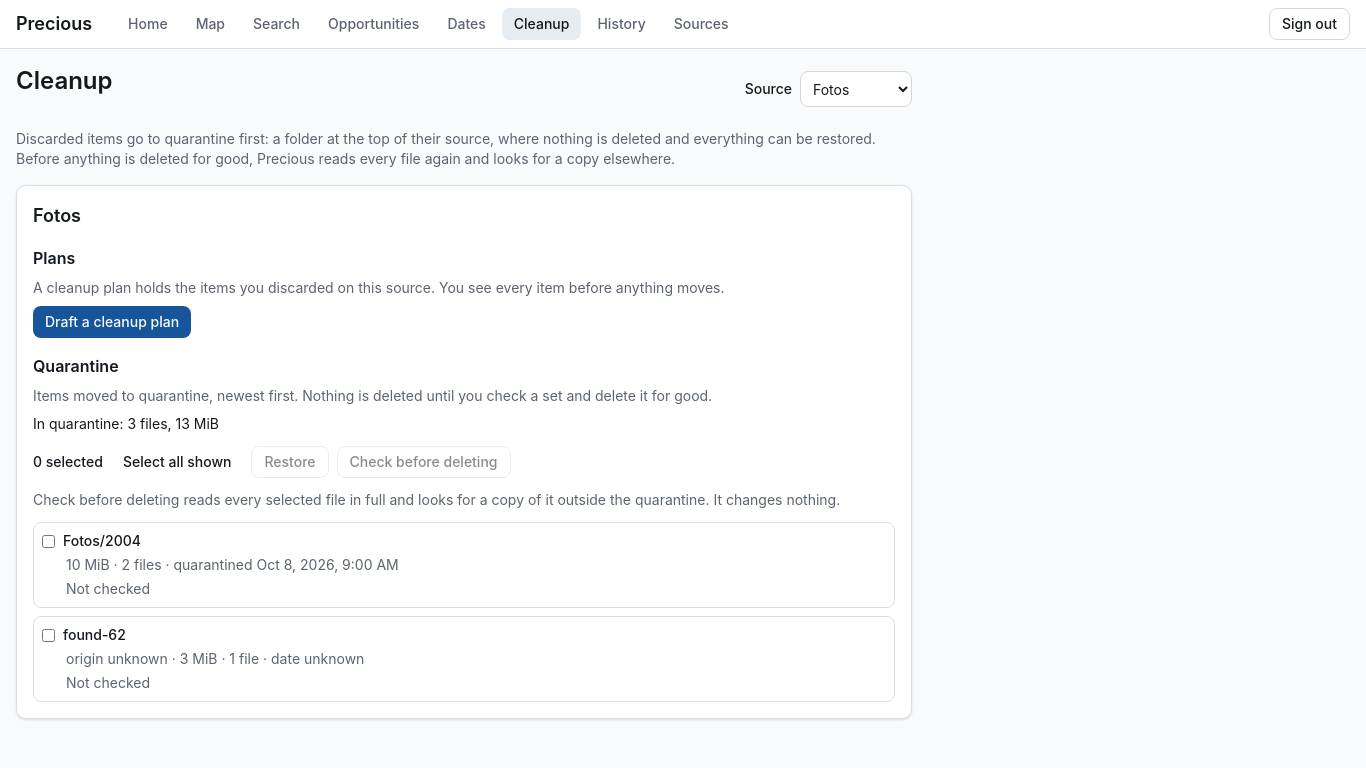
The quarantine › R4.3: lists the items newest first, and a restore whose place is taken asks for a folder
Expected: the text "In quarantine: 3 files, 13 MiB" is shown, [33,415,219,432]
Click the checkbox labelled "Fotos/2004" at {"x": 48, "y": 542}, box [42,535,55,548]
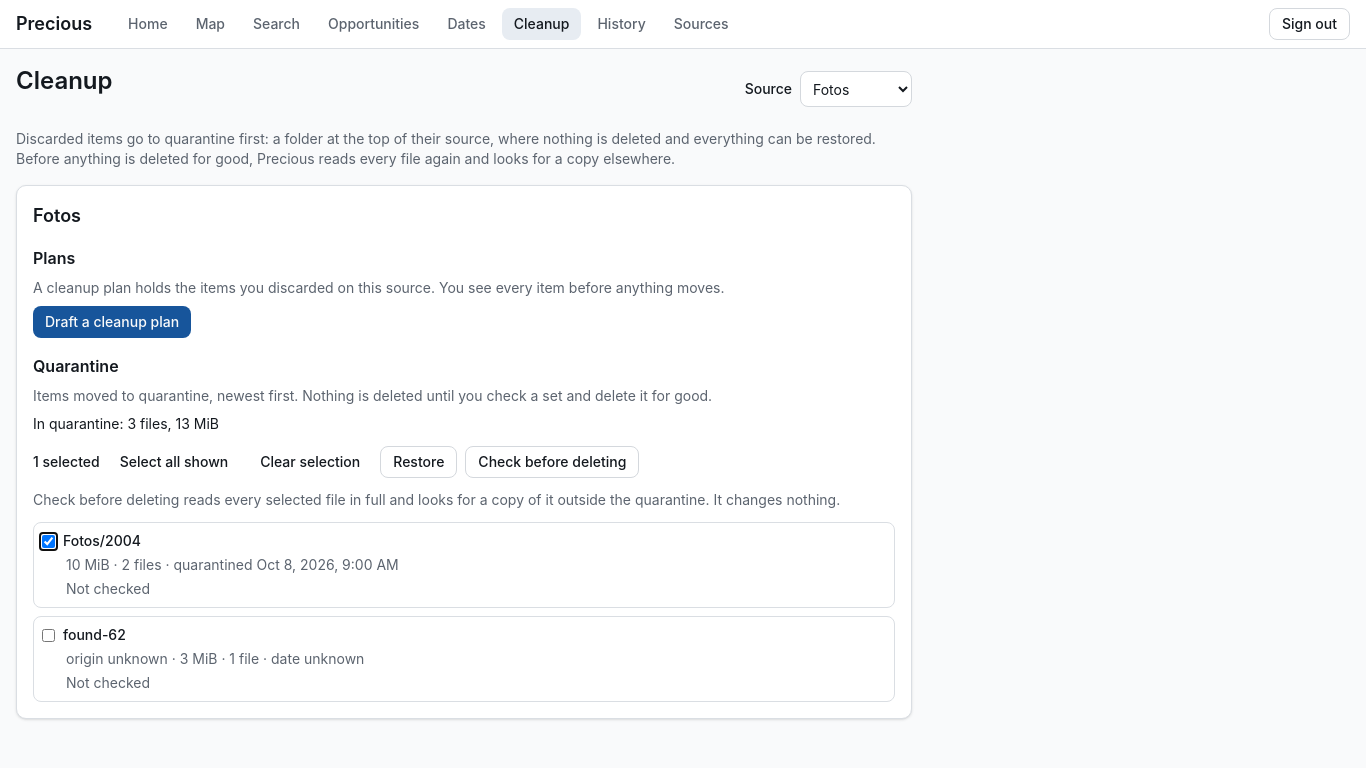
Click the button "Restore" at {"x": 419, "y": 462}, box [380,446,457,478]
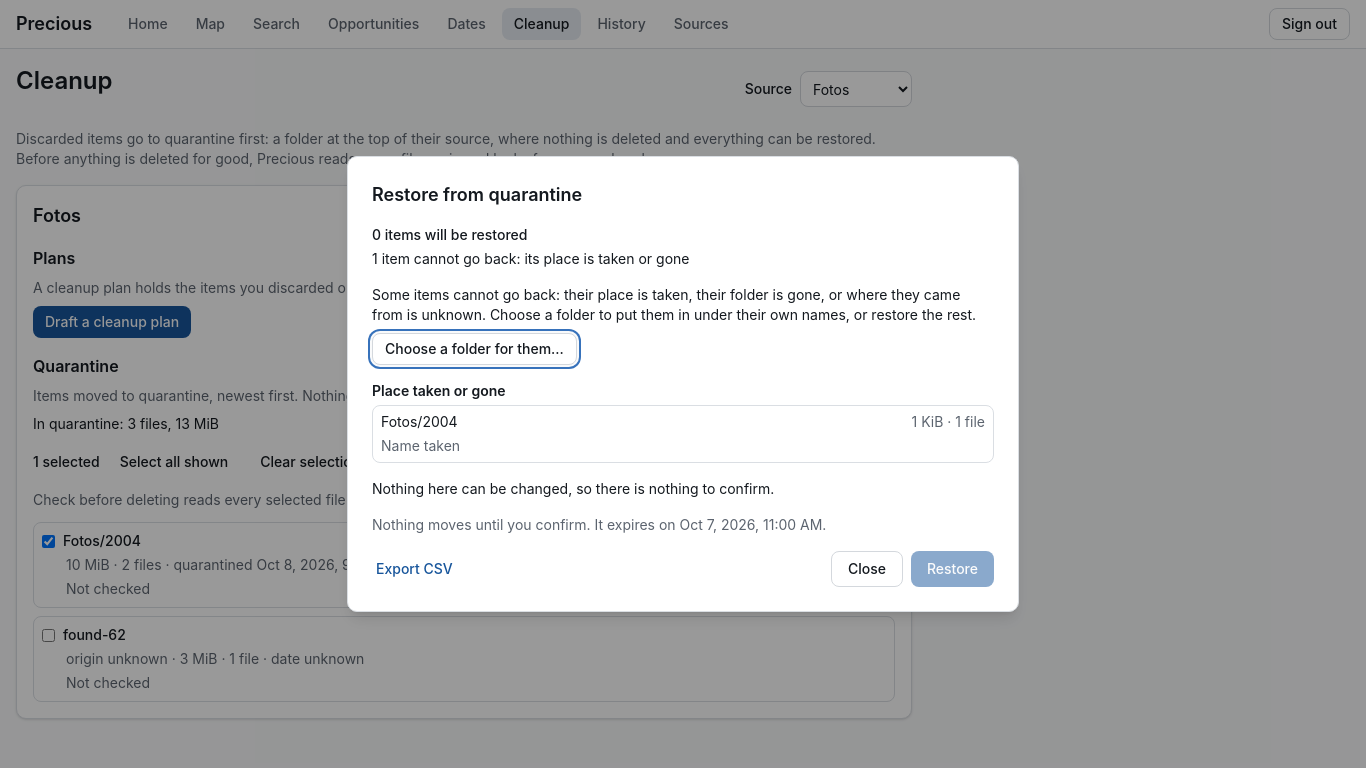
Now the button "Restore" is disabled, box [911,551,994,587]
Click the button "Choose a folder for them…" at {"x": 474, "y": 349}, box [372,333,577,365]
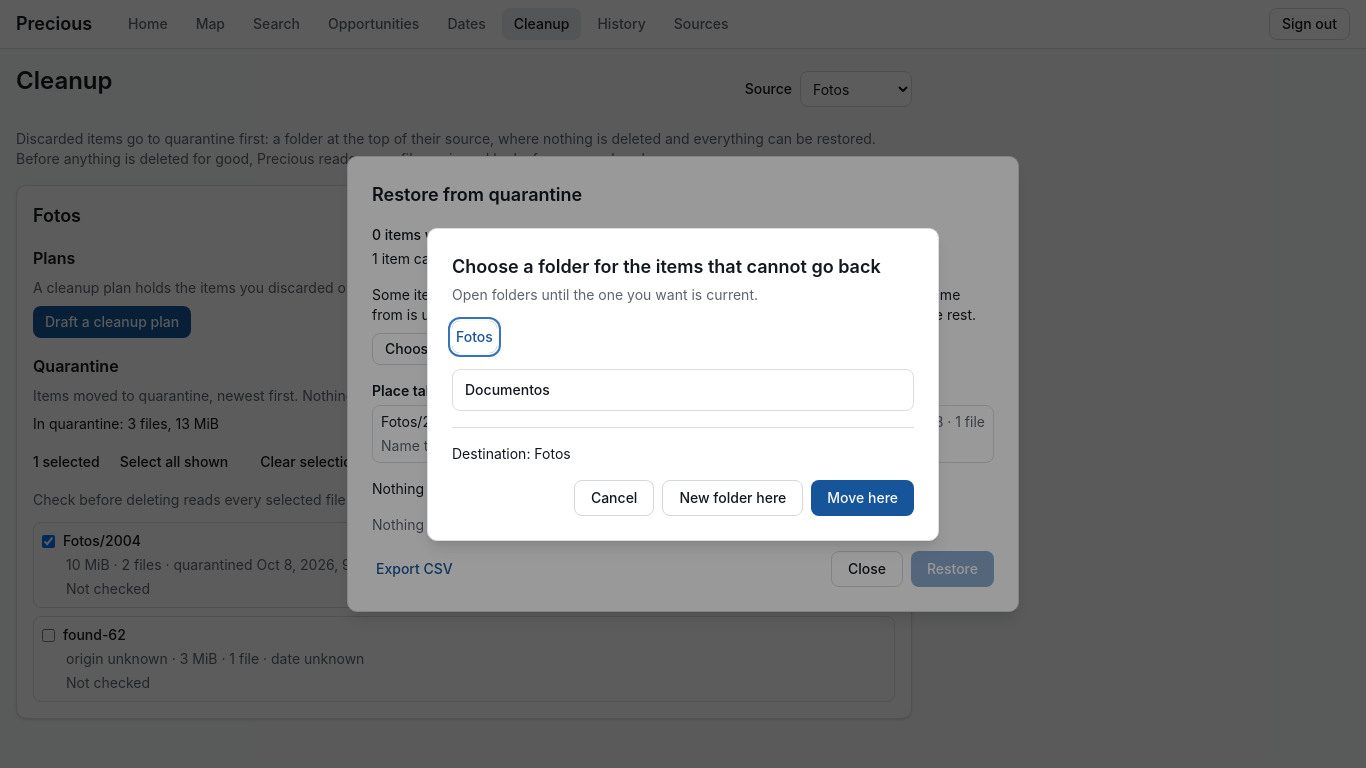
Click the button "Documentos" at {"x": 507, "y": 389}, box [457,374,909,406]
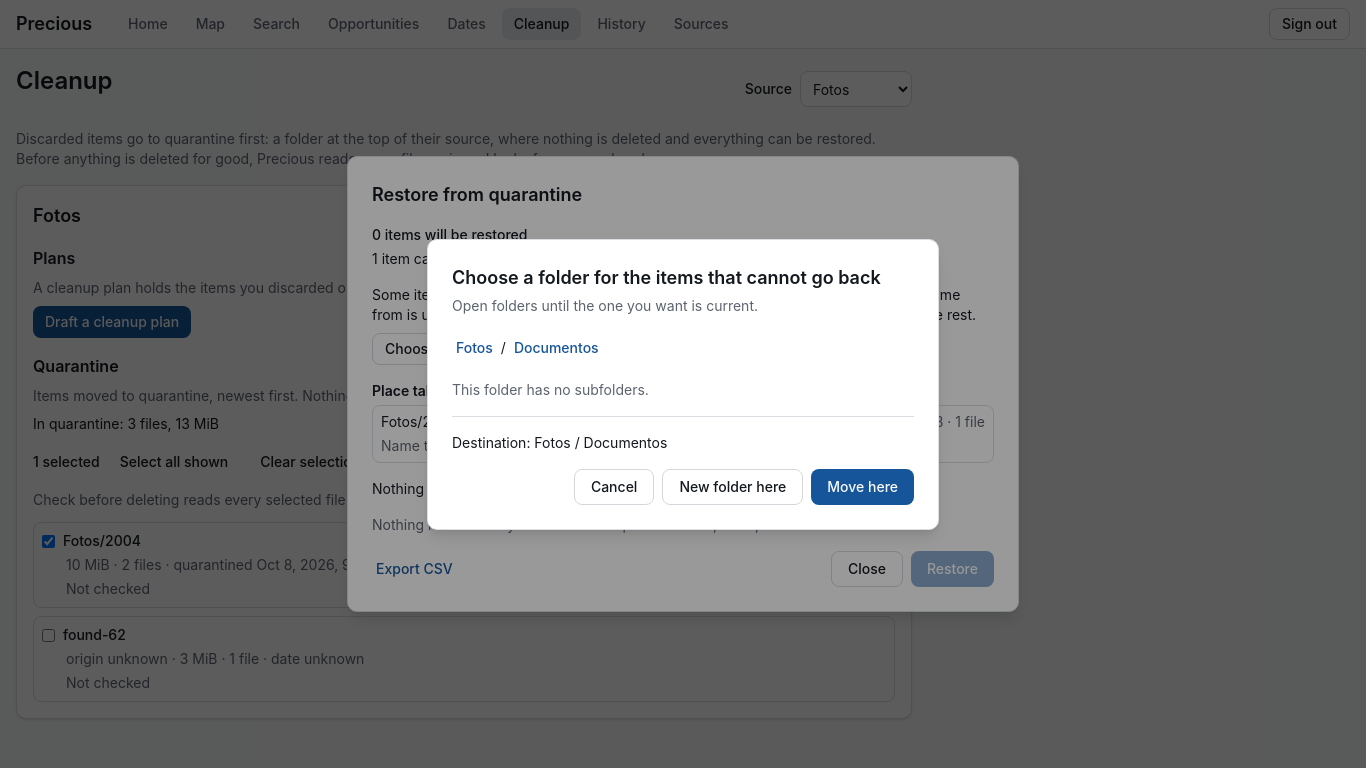
Now the text "This folder has no subfolders." is shown, box [452,380,649,398]
Click the button "Move here" at {"x": 863, "y": 486}, box [811,468,914,504]
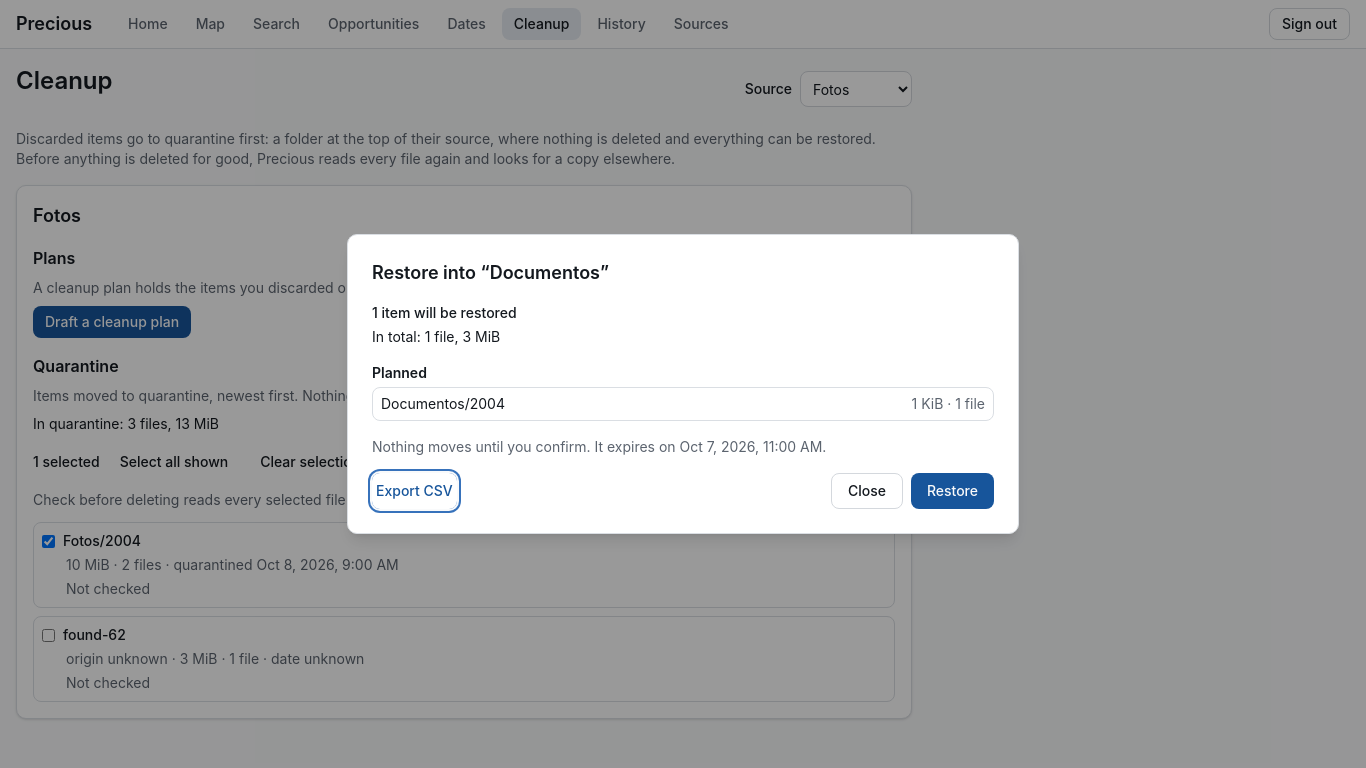
Click the button "Restore" at {"x": 952, "y": 491}, box [911,473,994,509]
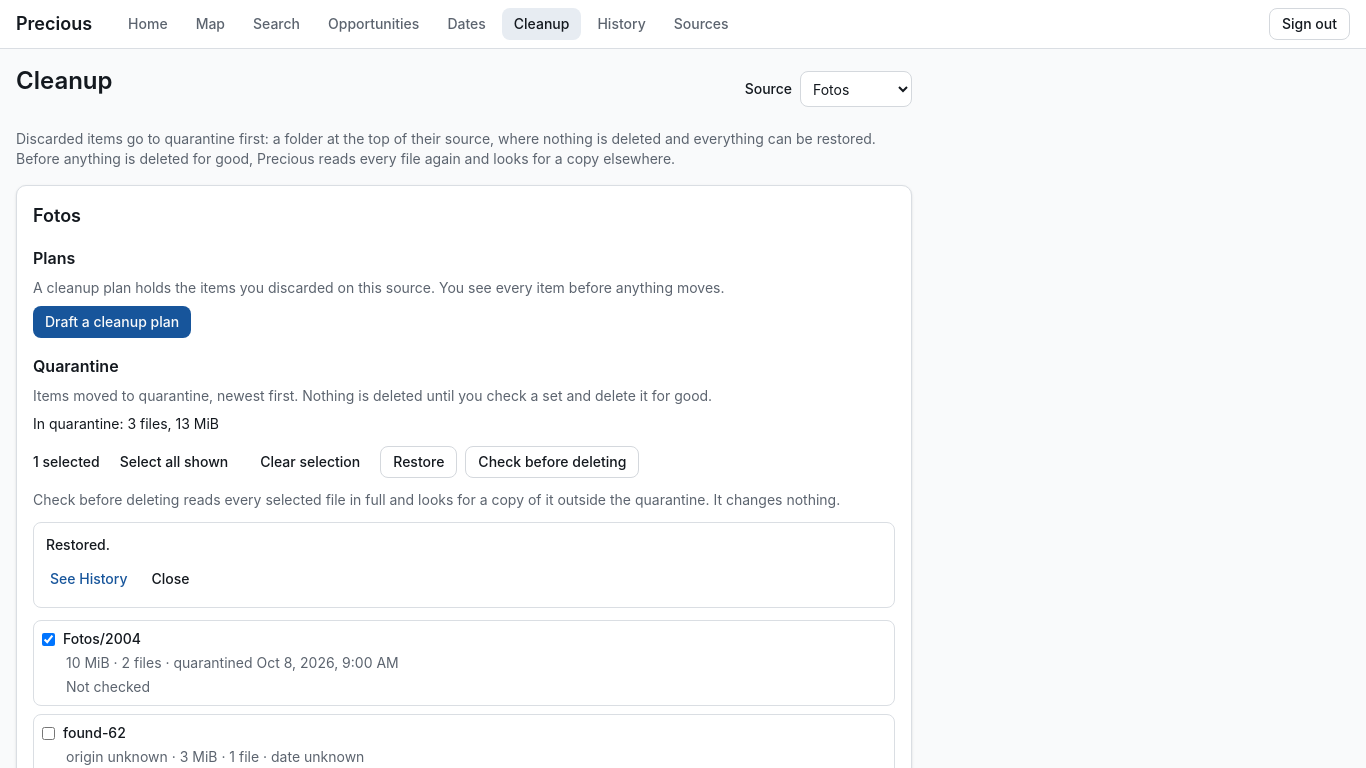
Now the text "Restored." is shown, box [46,536,110,553]
